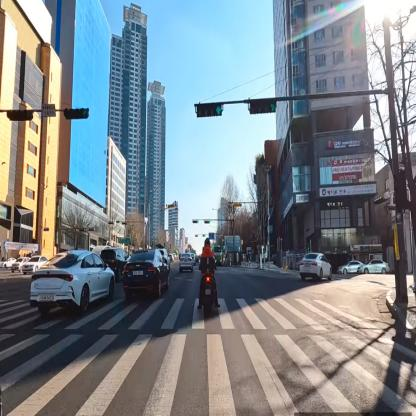Green: (248, 101, 278, 116), (196, 102, 223, 118)
